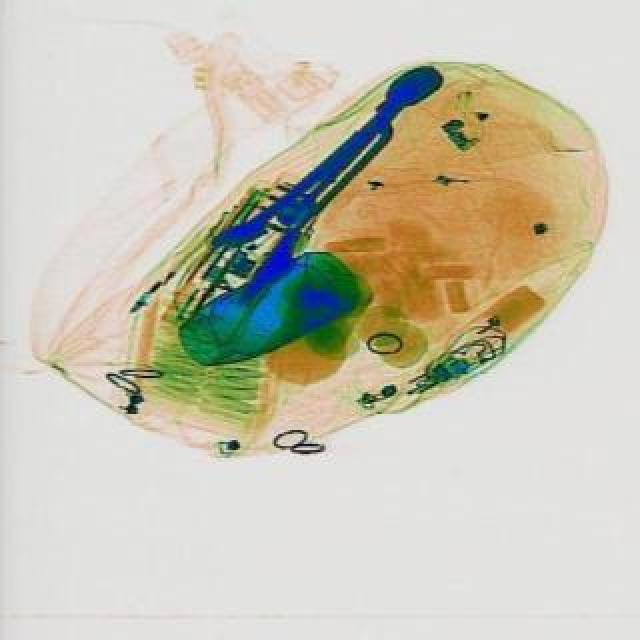scissors: (200, 58, 448, 266)
